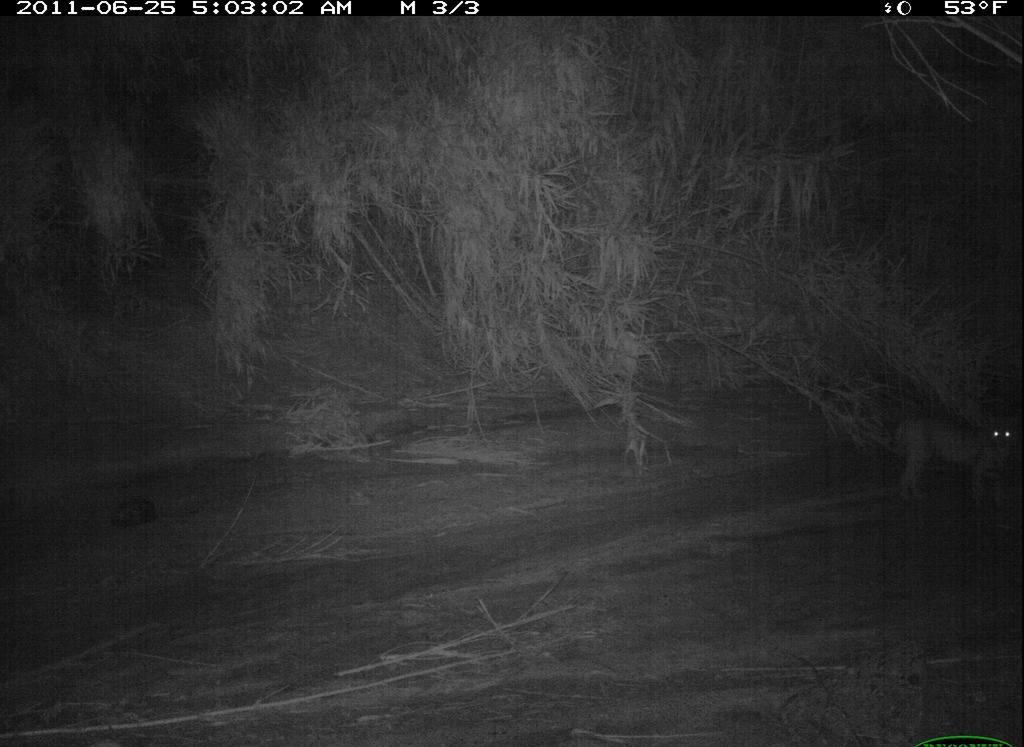bobcat: (879, 392, 1023, 516)
